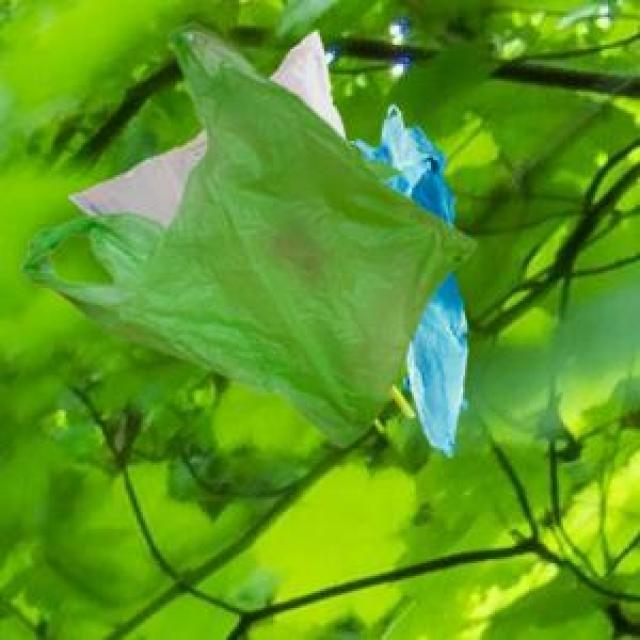waste: (39, 33, 468, 435)
